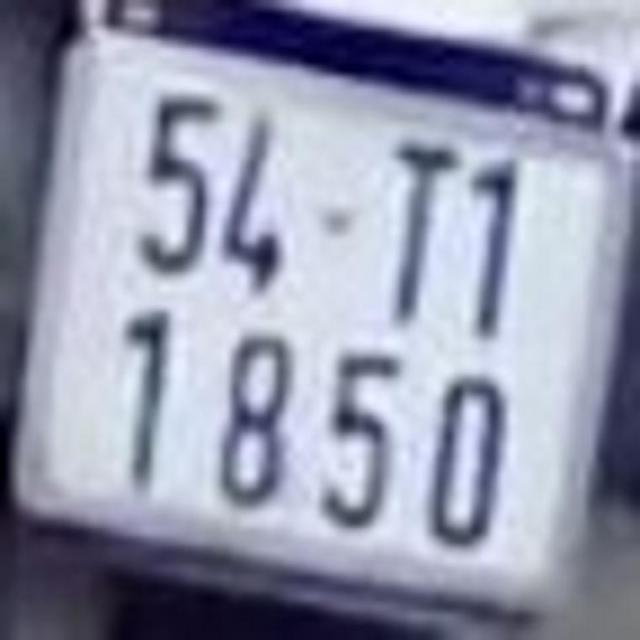0: (432, 376, 507, 554)
1: (118, 298, 173, 489), (468, 143, 519, 338)
4: (228, 114, 282, 297)
5: (325, 354, 398, 538), (144, 92, 206, 279)
8: (223, 325, 291, 514)
T: (392, 134, 455, 326)
